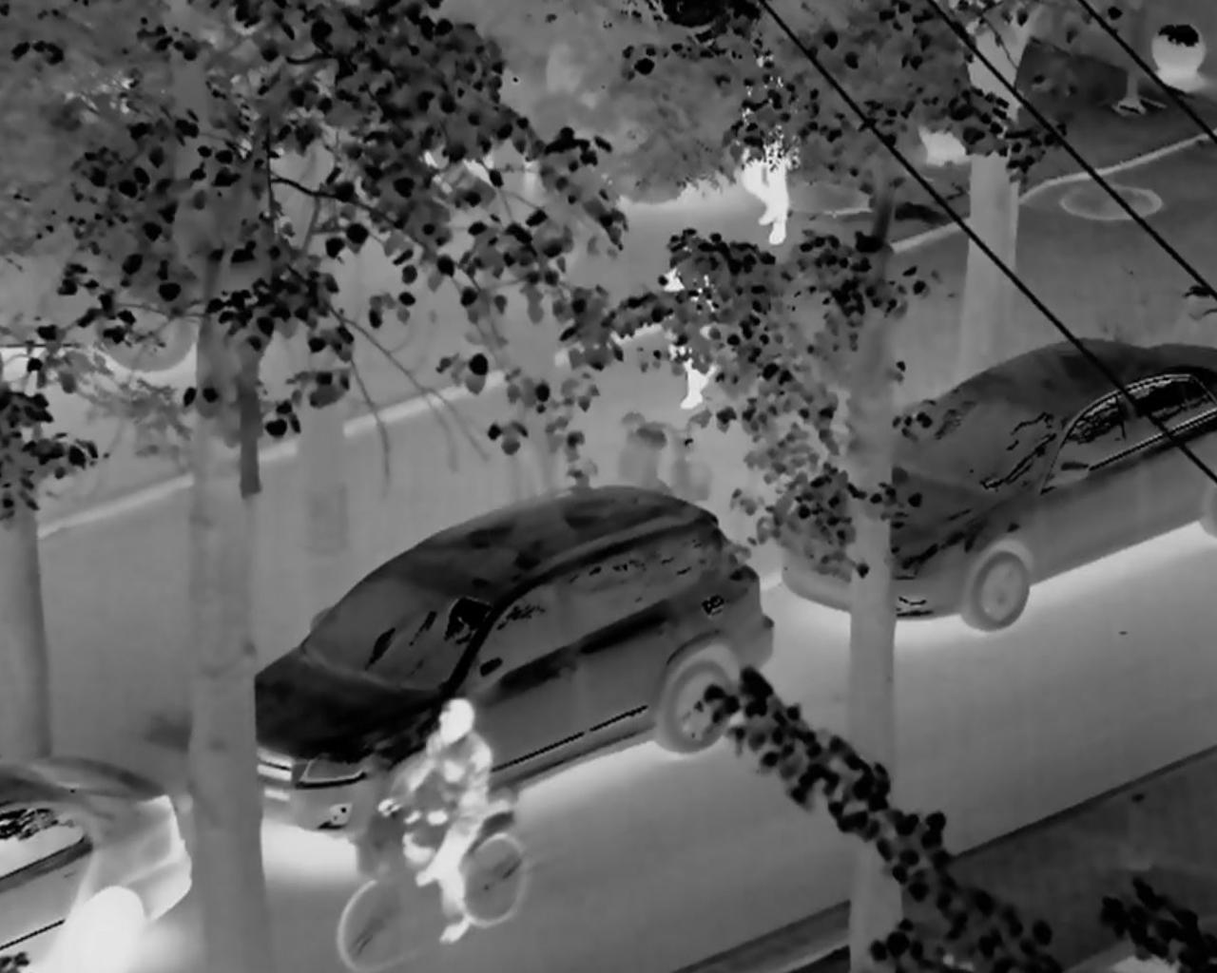person: (396, 697, 489, 945), (734, 51, 802, 241), (665, 244, 724, 410)
